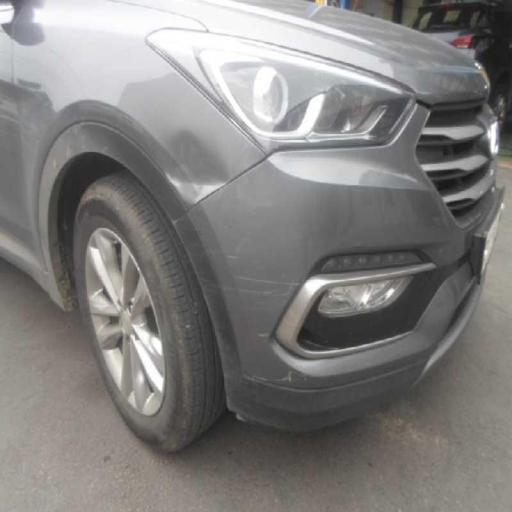dent: (122, 76, 266, 270)
